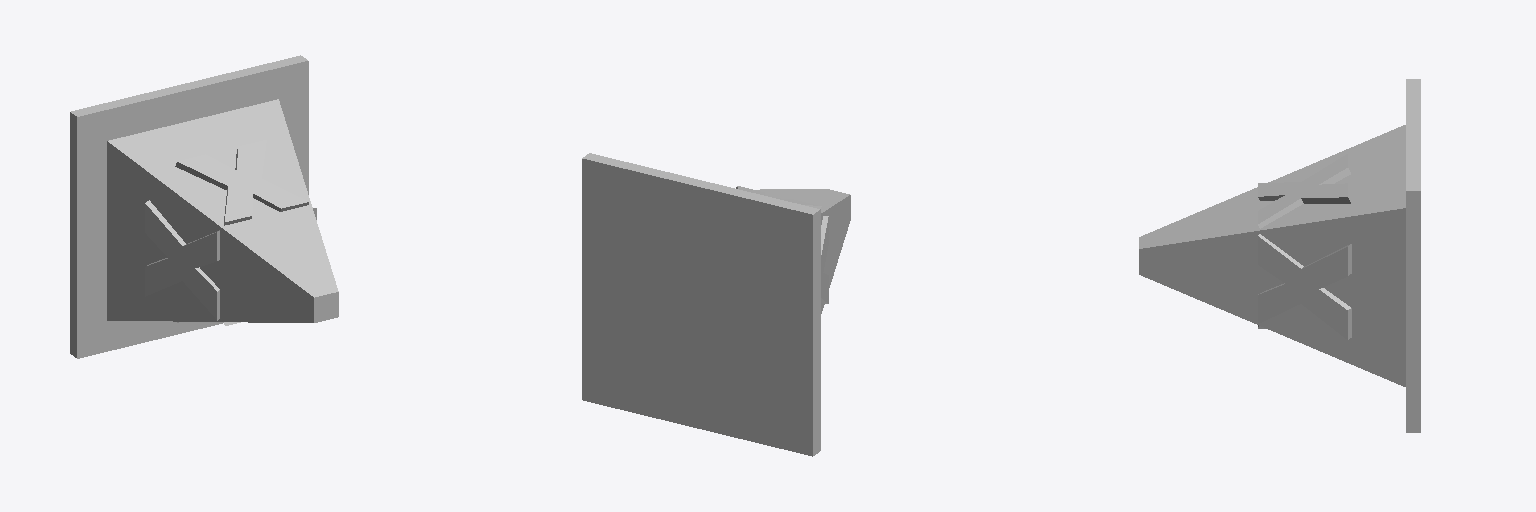
Rendered from tinker.obj.
3 renders of one model, left to right at view 1: azimuth 30°, elevation 25°; view 2: azimuth 150°, elevation 25°; view 3: azimuth 270°, elevation 25°, orthographic.
Parts seen in each view (by area): view 1: obj_0; view 2: obj_0; view 3: obj_0.
Part boxes in pixels (bbox=[...]): obj_0: bbox=[70, 55, 338, 358]; obj_0: bbox=[582, 153, 850, 456]; obj_0: bbox=[1139, 79, 1420, 432].
Bounding box in the file's own units: 18 × 18 × 19.